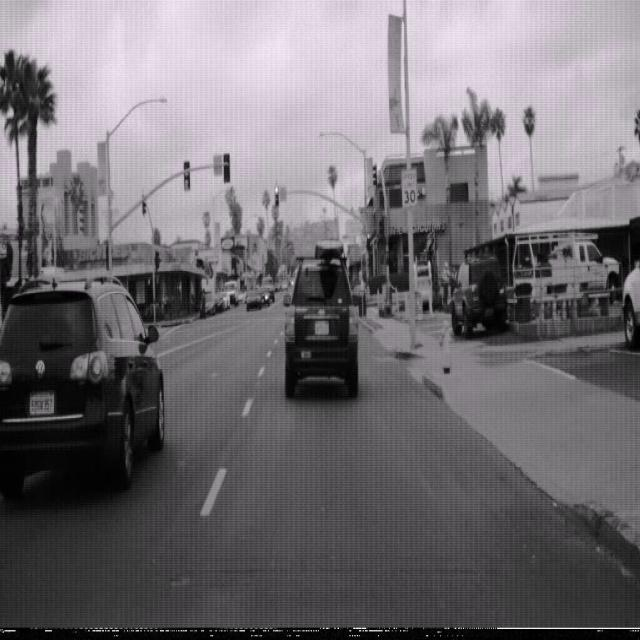speedLimit30: (401, 167, 418, 208)
